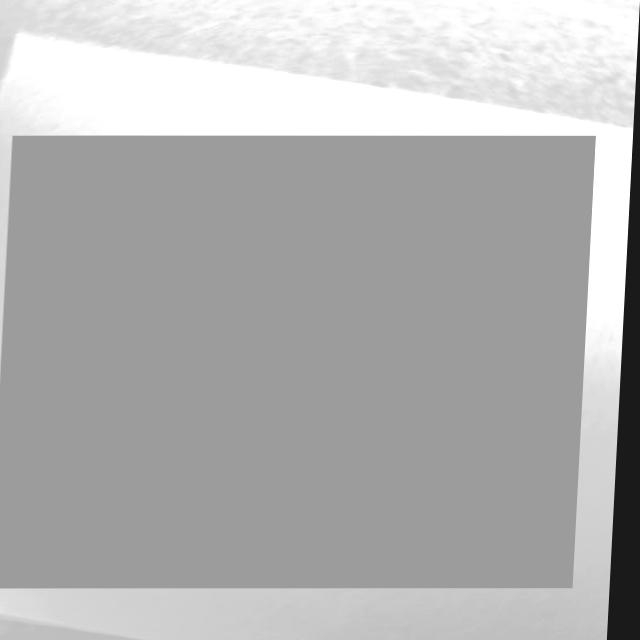qr_code: (0, 136, 597, 588)
